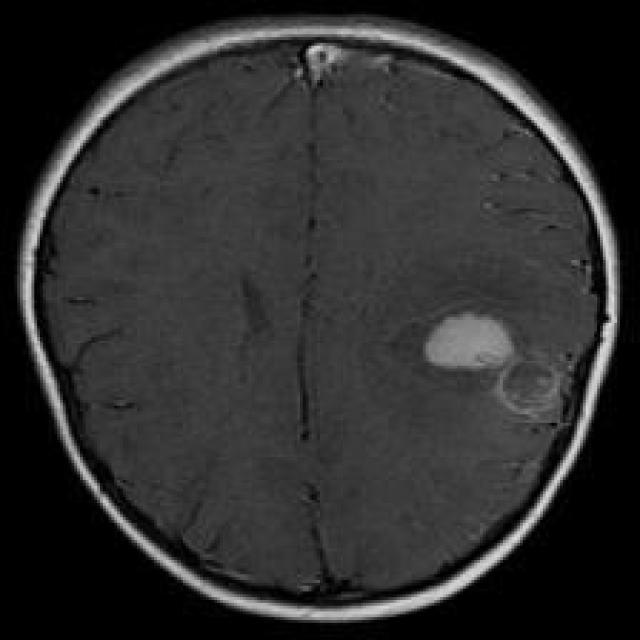Tumor: (423, 312, 517, 374), (488, 360, 566, 420)
